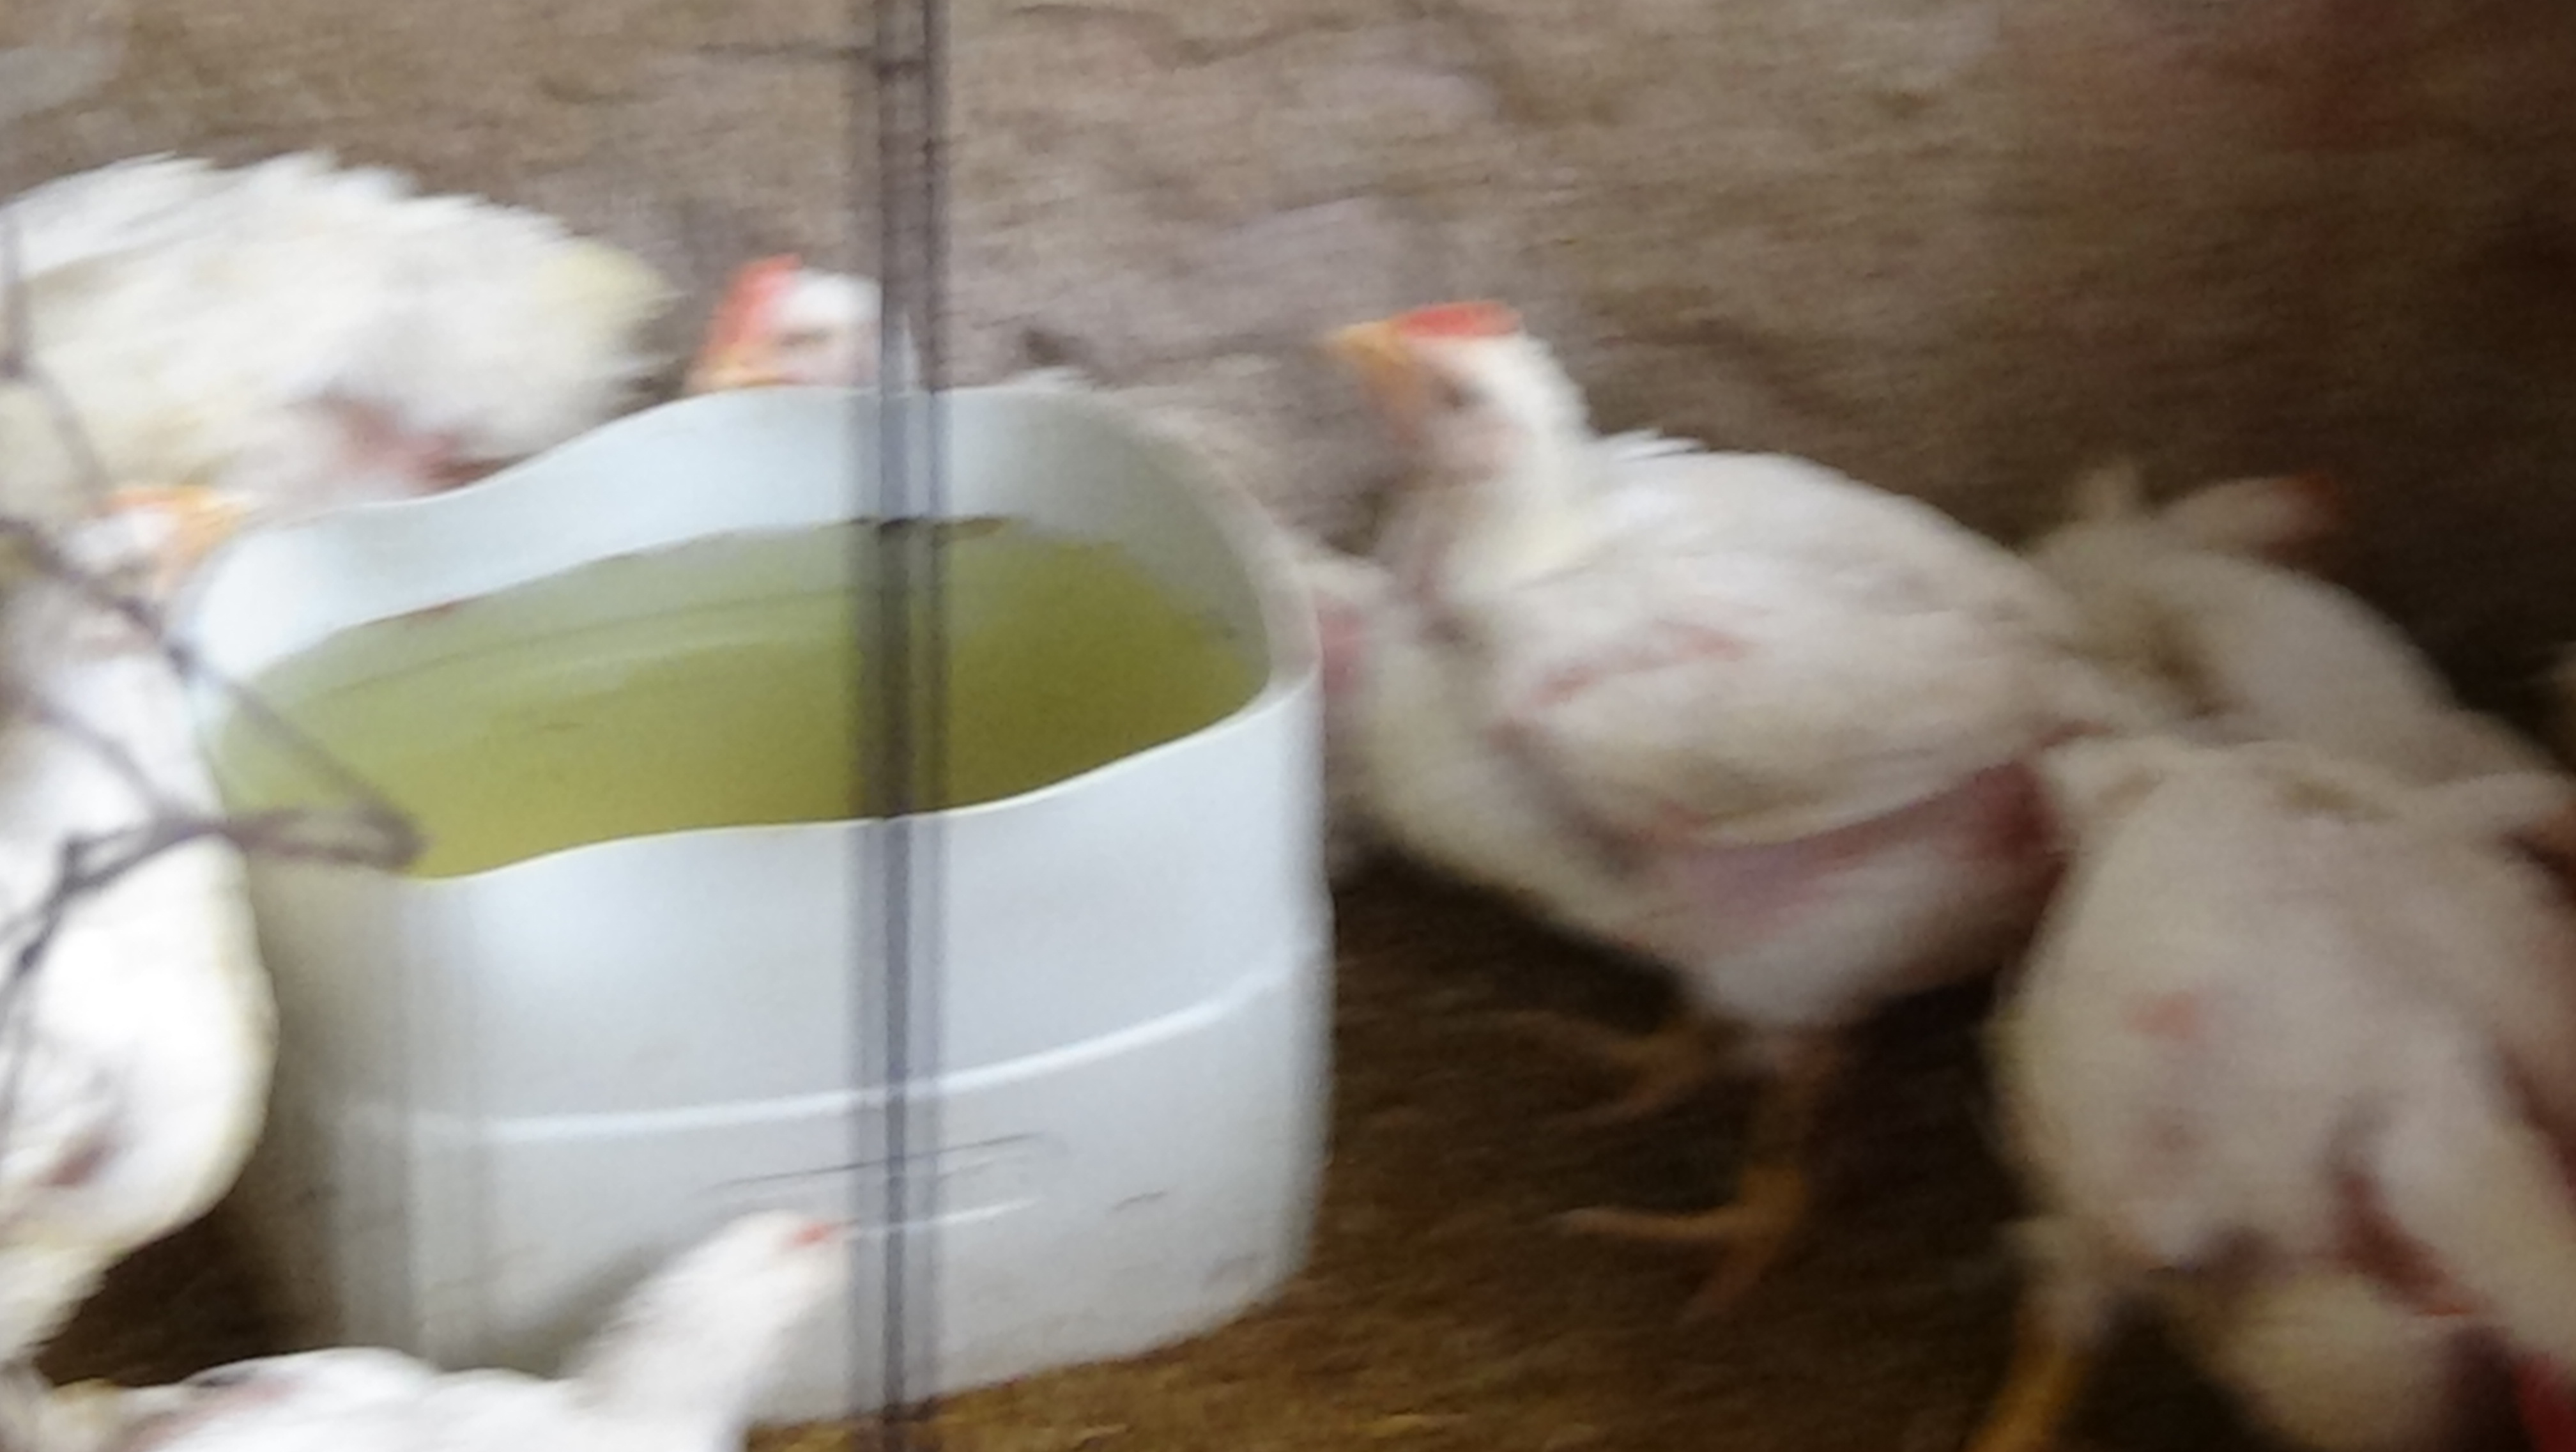Pollos: (1306, 264, 2038, 1310), (1962, 613, 2576, 1452), (0, 1100, 911, 1452), (0, 411, 329, 1333), (681, 218, 1125, 423)
